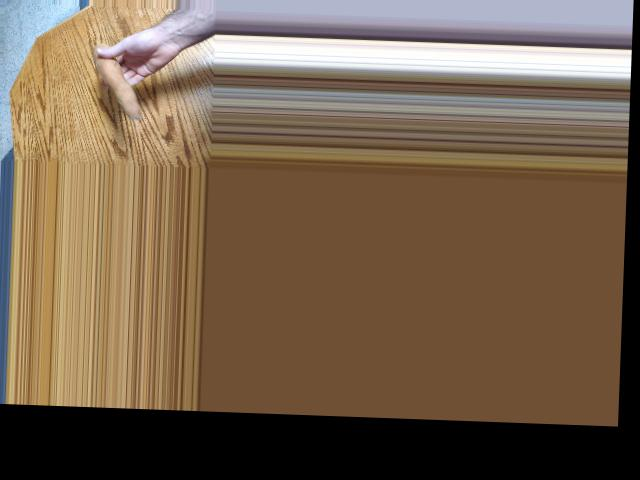sweet_potato: (90, 40, 144, 119)
